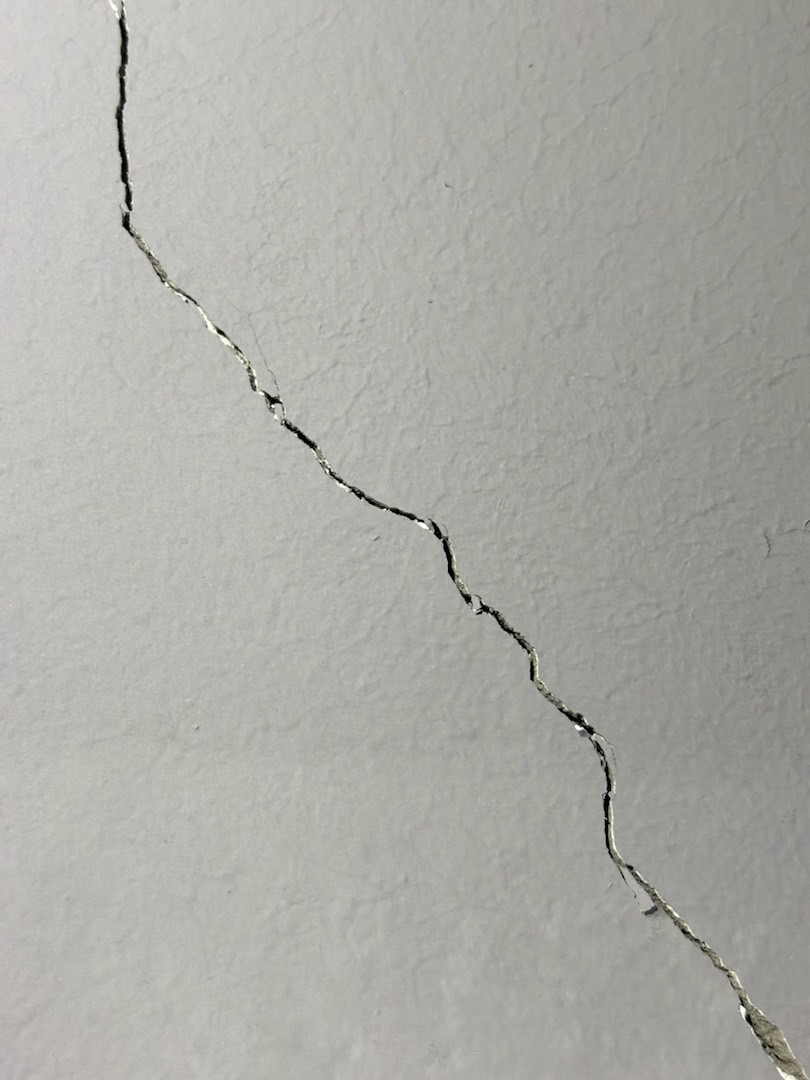Medium: (79, 97, 662, 831)
